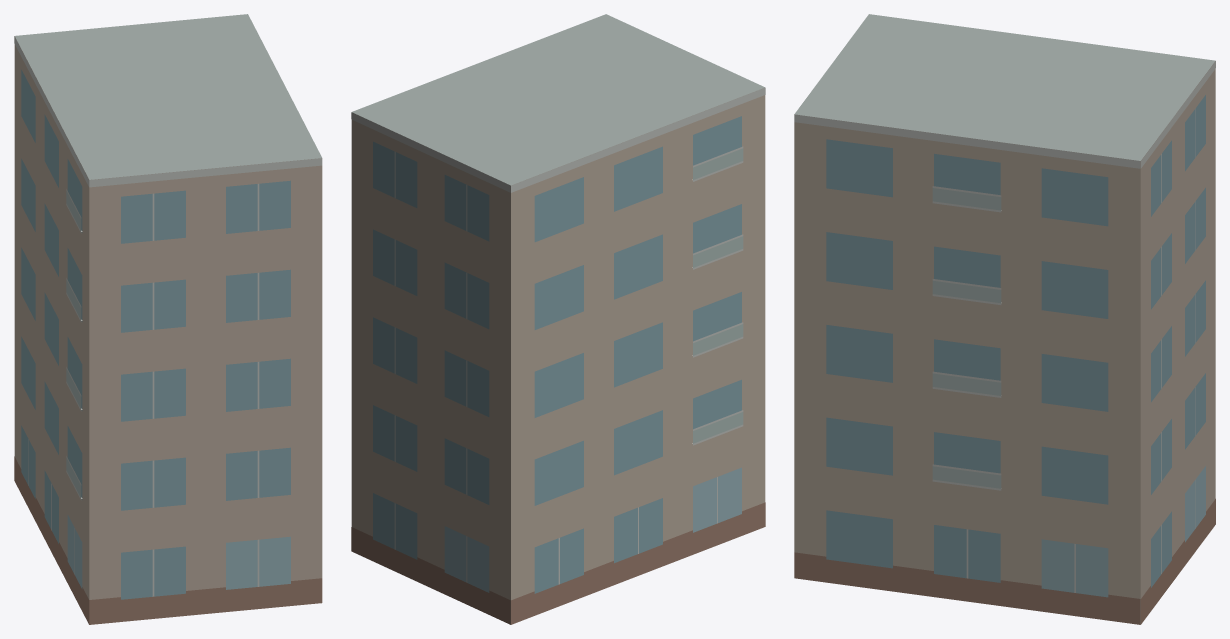
The model's file is survey-upis-32527682.glb.
3 renders of one model, left to right at view 1: azimuth 30°, elevation 25°; view 2: azimuth 150°, elevation 25°; view 3: azimuth 270°, elevation 25°, orthographic. The views are drawn at different scales.
Parts seen in each view (by area): view 1: survey-upis-32527682.tmp; view 2: survey-upis-32527682.tmp; view 3: survey-upis-32527682.tmp.
Boxes of the visible parts, box(x1,y1,x2,y2) form: survey-upis-32527682.tmp: box(14, 14, 322, 624); survey-upis-32527682.tmp: box(351, 14, 765, 624); survey-upis-32527682.tmp: box(794, 14, 1215, 624).
Bounding box in the file's own units: 9.87 × 14.5 × 11.95.
